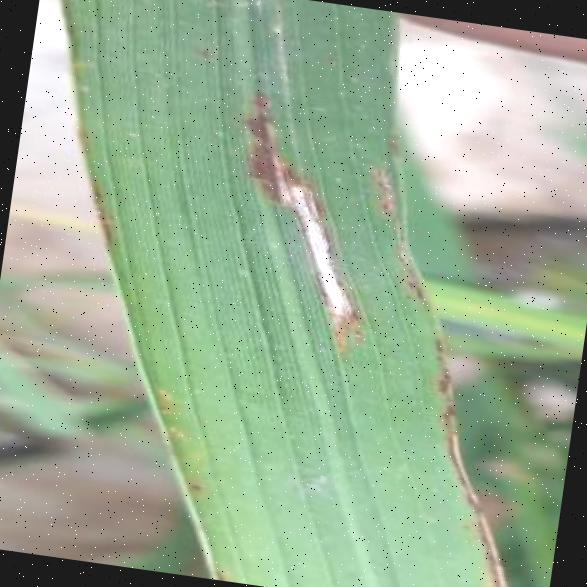Leaf_smut: (196, 98, 406, 378)
